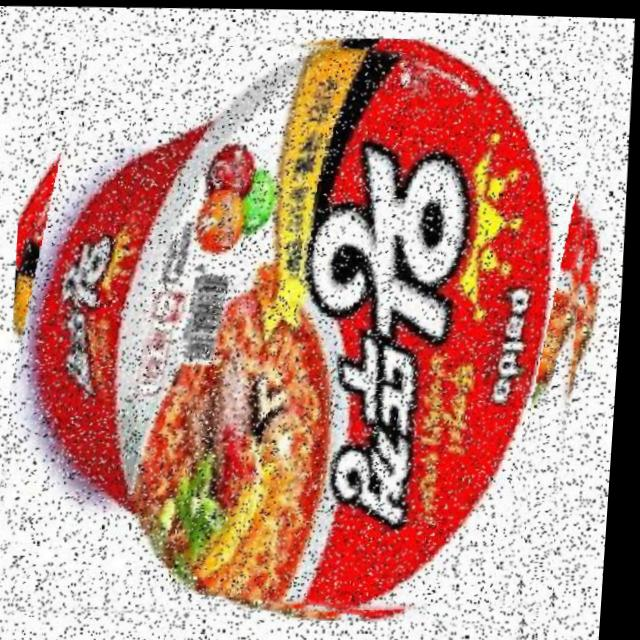Miscellaneous: (0, 24, 618, 628)
